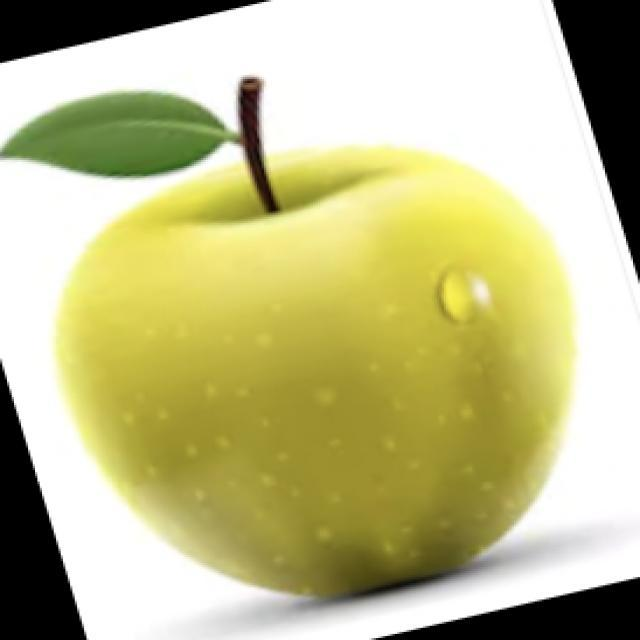Fresh Apple: (80, 148, 573, 590)
